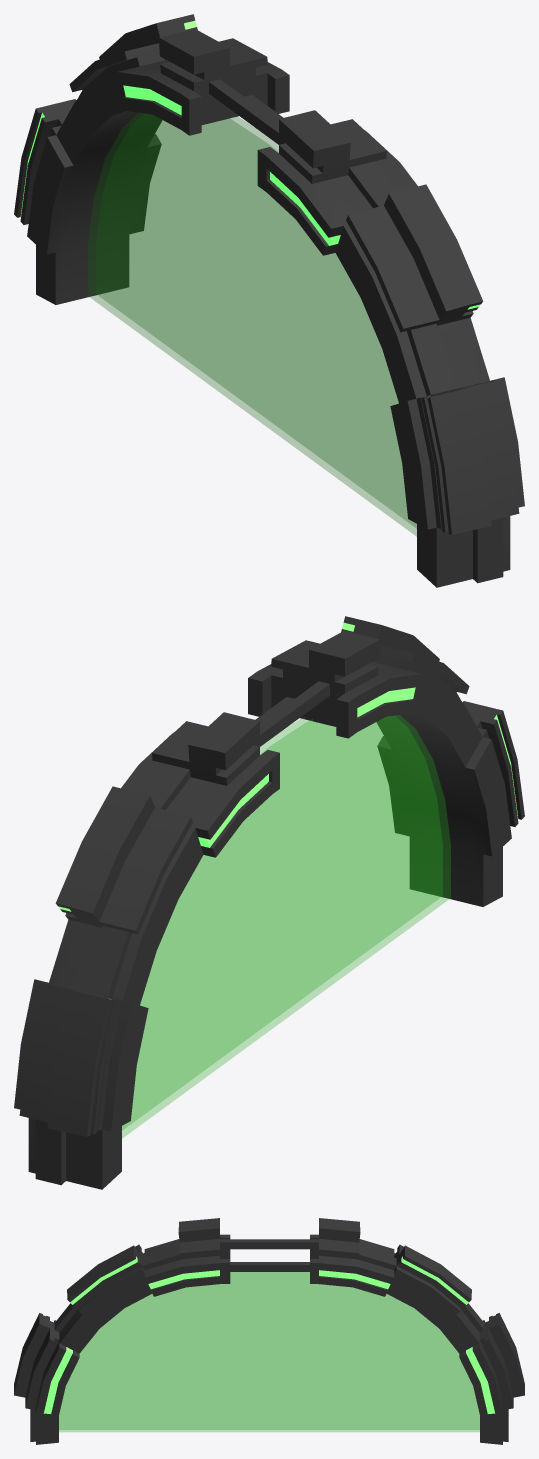
File: GreenGateWide.fbx
The picture shows the model from 3 angles, top to bottom: view 1: azimuth 30°, elevation 25°; view 2: azimuth 150°, elevation 25°; view 3: azimuth 270°, elevation 25°; orthographic projection. The views are drawn at different scales.
Parts seen in each view (by area): view 1: gate_groundWide_green, greenW; view 2: gate_groundWide_green, greenW; view 3: greenW, gate_groundWide_green.
Part boxes in pixels (box(x1,y1,x2,y2)): gate_groundWide_green: box(14, 14, 524, 587); greenW: box(88, 113, 416, 536); gate_groundWide_green: box(14, 616, 524, 1189); greenW: box(122, 715, 450, 1138); greenW: box(59, 1272, 479, 1431); gate_groundWide_green: box(14, 1218, 524, 1444).
Bounding box in the file's own units: 1.17 × 3.95 × 8.86.
